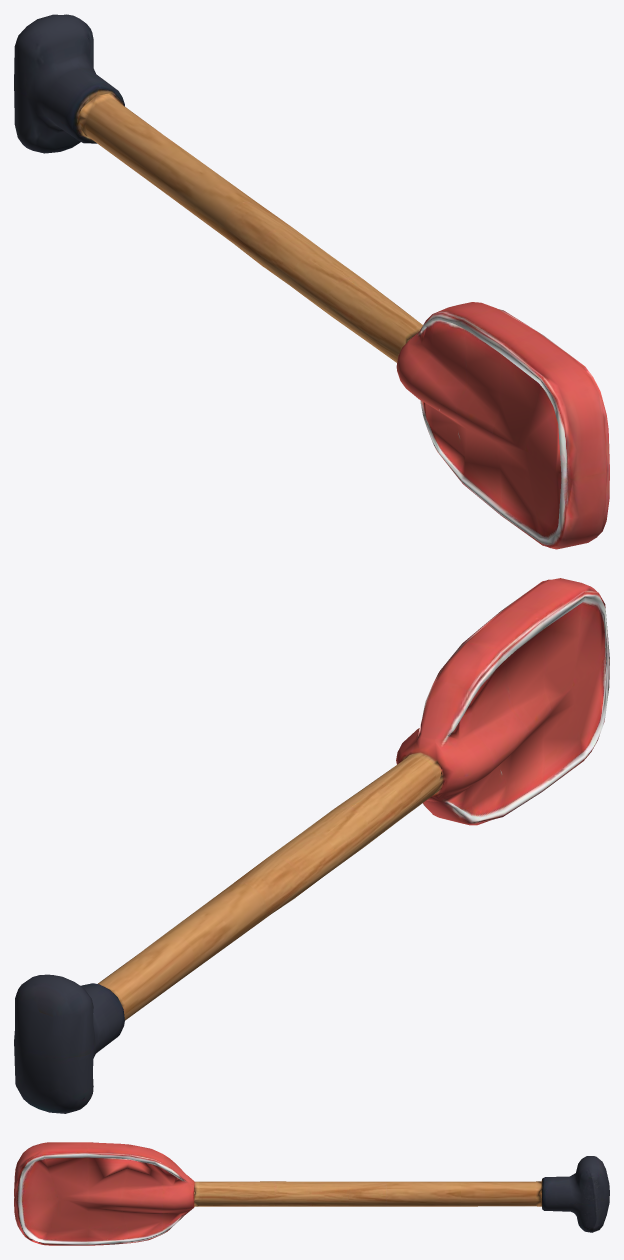
Rendered from oar-red.glb.
The picture shows the model from 3 angles, top to bottom: view 1: azimuth 30°, elevation 25°; view 2: azimuth 150°, elevation 25°; view 3: azimuth 270°, elevation 25°; orthographic projection. The views are drawn at different scales.
Visible parts, largest first — view 1: tripo_node_e5fd0dd6-4c19-4555-a2a6-46b3097874ec; view 2: tripo_node_e5fd0dd6-4c19-4555-a2a6-46b3097874ec; view 3: tripo_node_e5fd0dd6-4c19-4555-a2a6-46b3097874ec.
Boxes of the visible parts, x1,y1,x2,y2 form: tripo_node_e5fd0dd6-4c19-4555-a2a6-46b3097874ec: [14, 14, 609, 549]; tripo_node_e5fd0dd6-4c19-4555-a2a6-46b3097874ec: [14, 578, 609, 1113]; tripo_node_e5fd0dd6-4c19-4555-a2a6-46b3097874ec: [14, 1142, 609, 1245].
Size of the model in its own units: 0.086 by 0.1767 by 0.9807.
1 material, 1 textured.
